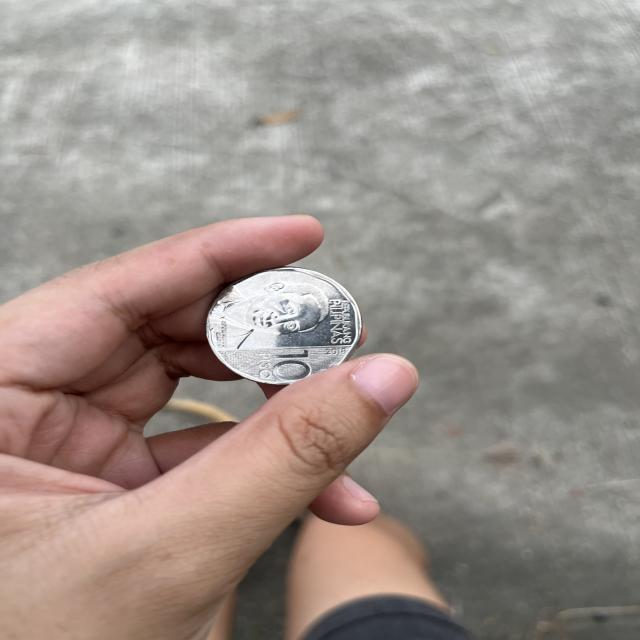10_New_Front: (247, 348, 331, 383)
